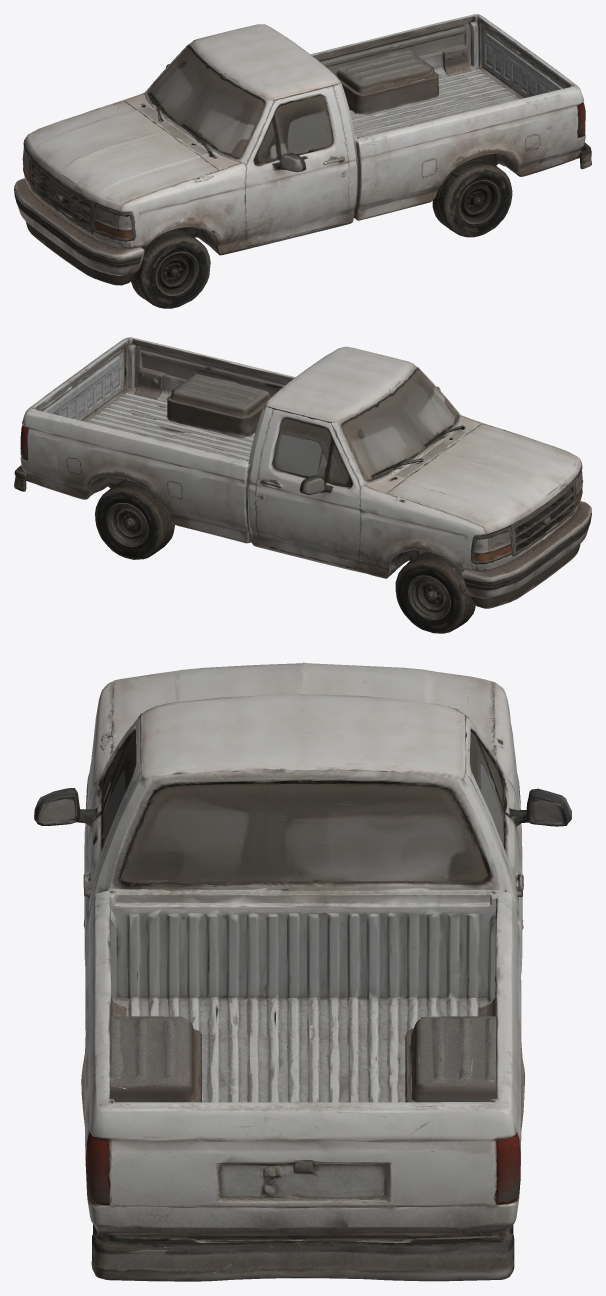
Rendered from pickup.glb.
The picture shows the model from 3 angles, top to bottom: view 1: azimuth 30°, elevation 25°; view 2: azimuth 150°, elevation 25°; view 3: azimuth 270°, elevation 25°; orthographic projection. The views are drawn at different scales.
Size of the model in its own units: 1.9 by 0.6827 by 0.9002.
Materials: 1 (1 with a texture image).
